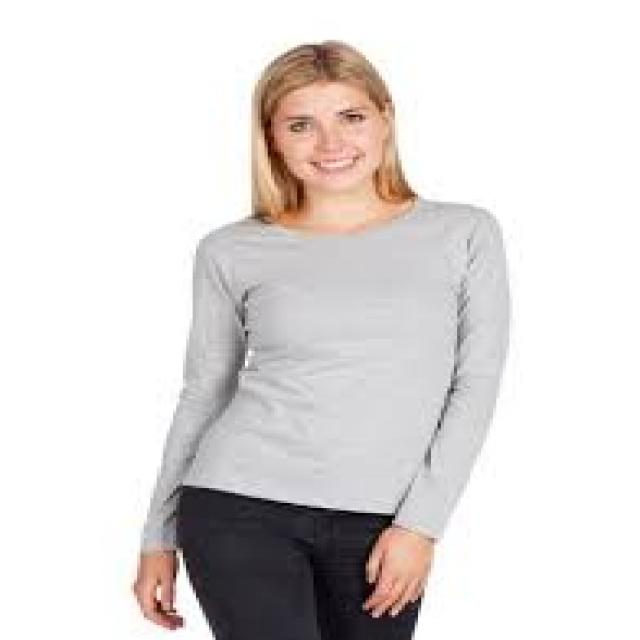plain: (136, 179, 517, 569)
